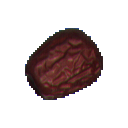gd: (13, 17, 115, 120)
